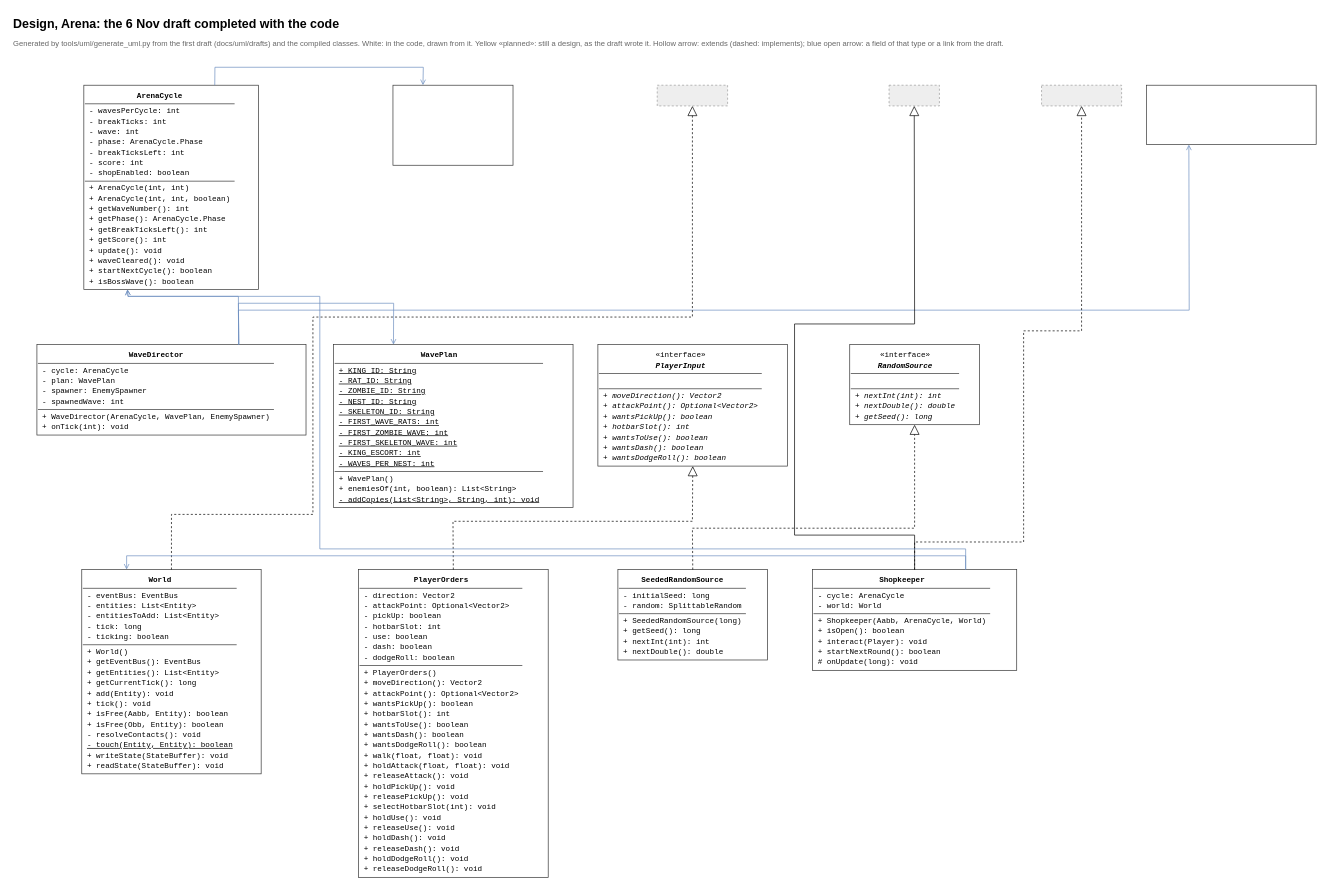
Image size: 1328x889. Some labels were removed from this diagram. The centre of each missing label's shape, as x and y in pixels:
"Entity" goes at (x=913, y=95).
"Interactable" goes at (x=1081, y=95).
"Rewindable" goes at (x=692, y=95).
"«enum» ArenaCycle.Phase WAVE BREAK SHOP" goes at (x=452, y=125).
"«interface» EnemySpawner + spawn(String, boolean): void" goes at (x=1231, y=115).
